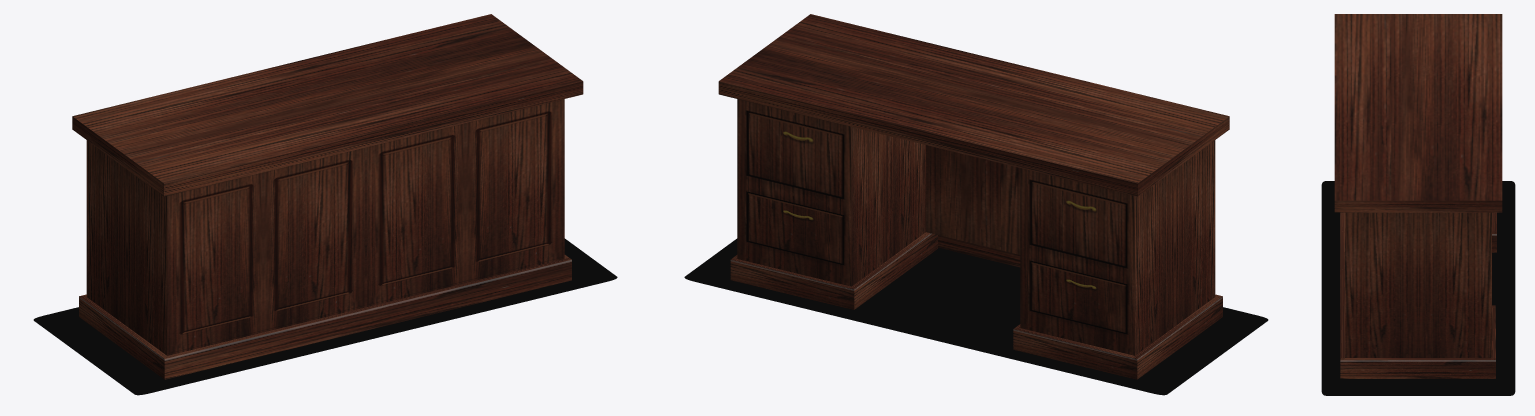
The model's file is desk.fbx.
3 views of the same model, side by side, from view 1: azimuth 30°, elevation 25°; view 2: azimuth 150°, elevation 25°; view 3: azimuth 270°, elevation 25° (orthographic). The views are drawn at different scales.
Visible parts, largest first — view 1: desk_outer, desk_top, desk_bottom_base, desk_shadow; view 2: desk_outer, desk_top, desk_shadow, desk_inner, desk_bottom_base; view 3: desk_top, desk_outer, desk_shadow, desk_bottom_base.
Boxes of the visible parts, left/top/right/bottom form: desk_outer: left=86, top=99, right=564, bottom=355; desk_top: left=72, top=14, right=583, bottom=196; desk_bottom_base: left=79, top=255, right=571, bottom=379; desk_shadow: left=33, top=238, right=617, bottom=395; desk_outer: left=737, top=99, right=1215, bottom=355; desk_top: left=718, top=14, right=1229, bottom=196; desk_shadow: left=684, top=238, right=1268, bottom=395; desk_inner: left=851, top=127, right=1020, bottom=286; desk_bottom_base: left=730, top=232, right=1222, bottom=379; desk_top: left=1334, top=14, right=1502, bottom=212; desk_outer: left=1345, top=212, right=1491, bottom=357; desk_shadow: left=1321, top=181, right=1515, bottom=395; desk_bottom_base: left=1340, top=212, right=1496, bottom=378.
Size of what is drawn, in the model's own units: 2.61 by 0.9743 by 0.9929.
Materials: 4 (4 with a texture image).
